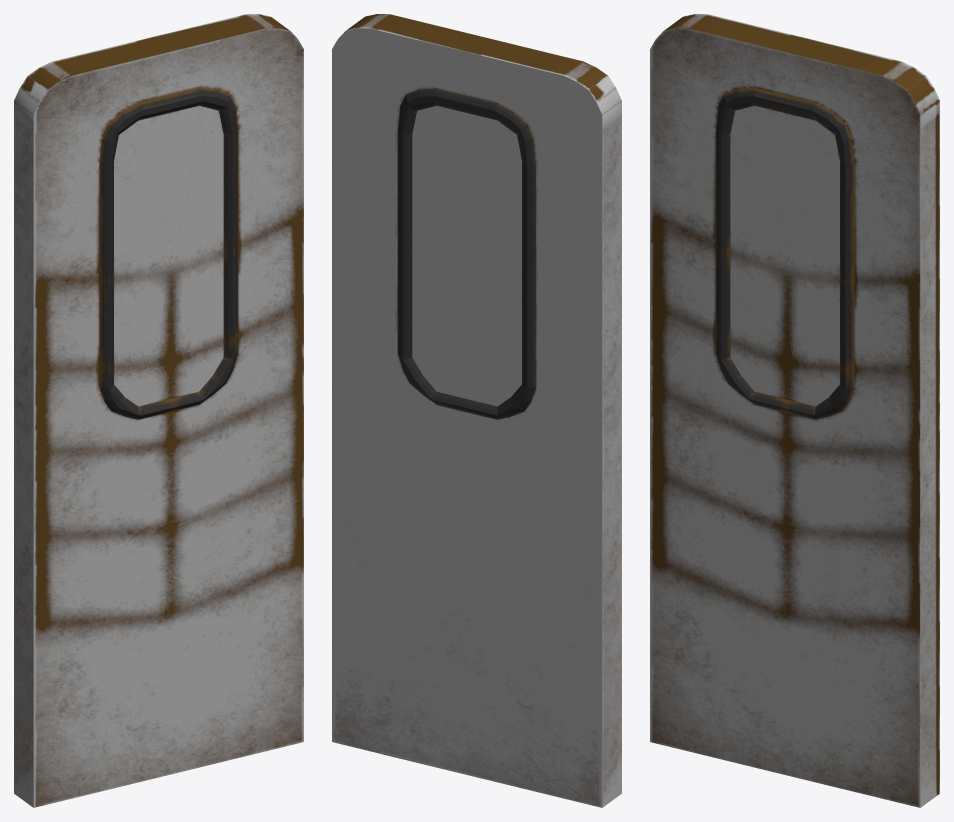
File: OutsideDoor.glb
3 renders of one model, left to right at view 1: azimuth 30°, elevation 25°; view 2: azimuth 150°, elevation 25°; view 3: azimuth 330°, elevation 25°, orthographic.
Visible parts, largest first — view 1: body003_front_door_0; view 2: body003_front_door_0; view 3: body003_front_door_0.
Part boxes in pixels (x1,y1,x2,y2): body003_front_door_0: [14, 14, 303, 807]; body003_front_door_0: [332, 14, 621, 807]; body003_front_door_0: [650, 14, 939, 807].
Bounding box in the file's own units: 0.9526 × 2.43 × 0.1554.
1 material, 1 textured.
